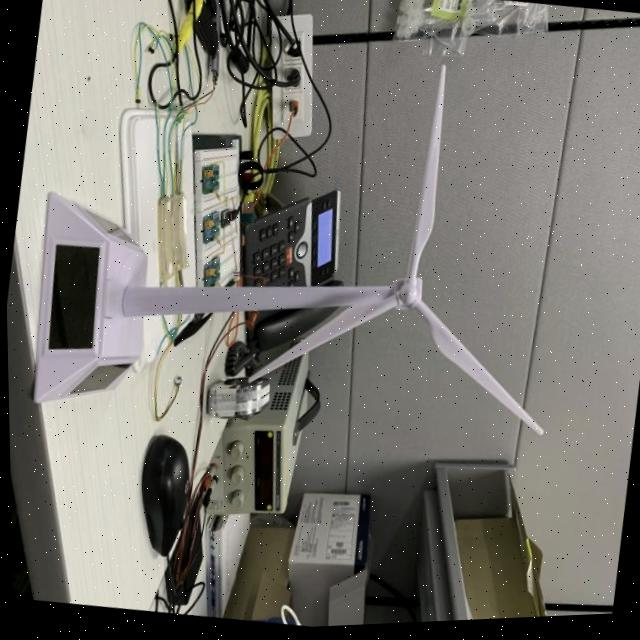solid-blade: (411, 302, 540, 439), (248, 301, 395, 382), (404, 71, 443, 285)
wind-turbine: (120, 73, 540, 439)
